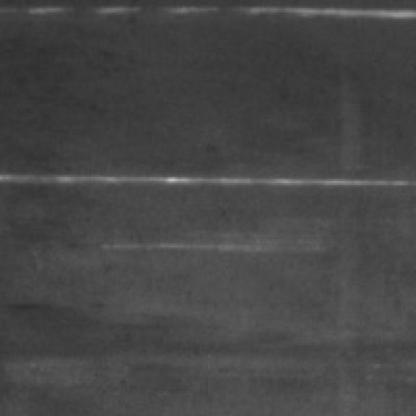scratches: (0, 162, 410, 193)
